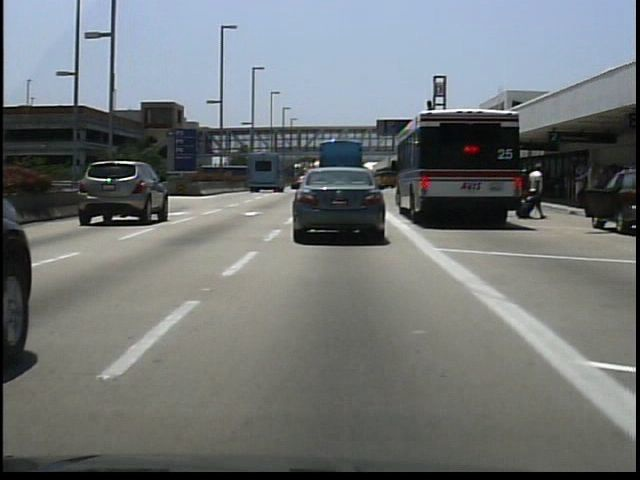person: (525, 159, 547, 221)
